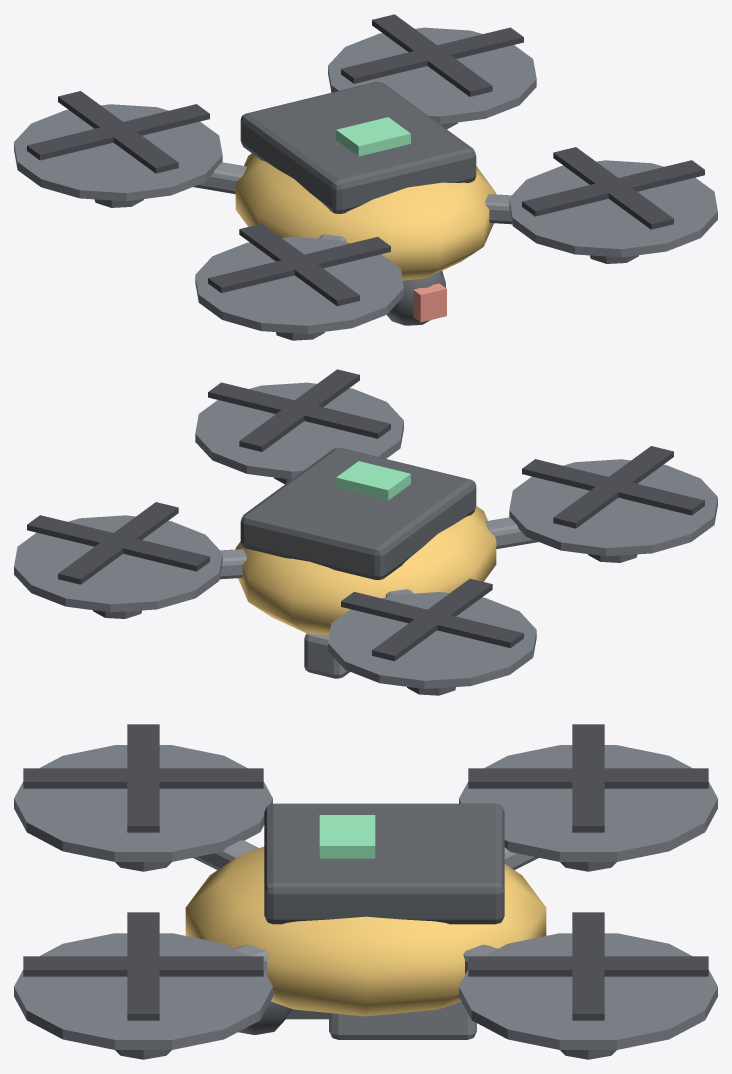
The model's file is eng_drone.fbx.
3 views of the same model, one above another, from view 1: azimuth 30°, elevation 25°; view 2: azimuth 150°, elevation 25°; view 3: azimuth 270°, elevation 25° (orthographic). The views are drawn at different scales.
Visible parts, largest first — view 1: eng_drone, Rotor3, Rotor2, Rotor1, Rotor0; view 2: eng_drone, Rotor2, Rotor3, Rotor0, Rotor1; view 3: eng_drone, Rotor0, Rotor1, Rotor2, Rotor3.
Part boxes in pixels (x1=…): eng_drone: x1=14, y1=27, x2=717, y2=340; Rotor3: x1=522, y1=147, x2=704, y2=229; Rotor2: x1=341, y1=14, x2=523, y2=96; Rotor1: x1=27, y1=91, x2=209, y2=173; Rotor0: x1=208, y1=223, x2=390, y2=306; eng_drone: x1=14, y1=382, x2=717, y2=695; Rotor2: x1=27, y1=502, x2=209, y2=584; Rotor3: x1=208, y1=369, x2=390, y2=451; Rotor0: x1=522, y1=446, x2=704, y2=528; Rotor1: x1=341, y1=578, x2=523, y2=661; eng_drone: x1=14, y1=745, x2=717, y2=1059; Rotor0: x1=23, y1=724, x2=263, y2=832; Rotor1: x1=468, y1=724, x2=708, y2=832; Rotor2: x1=468, y1=912, x2=708, y2=1020; Rotor3: x1=23, y1=912, x2=263, y2=1020.
Bounding box in the file's own units: 0.7538 × 0.24 × 0.7608.
